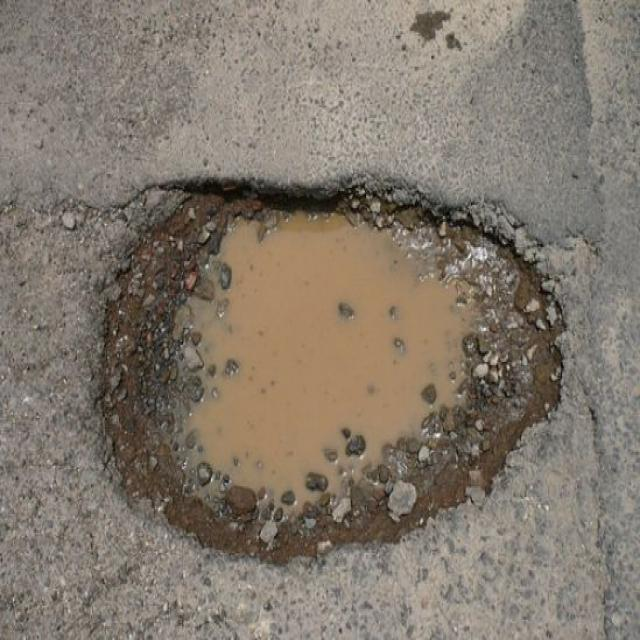pothole: (74, 163, 576, 569)
